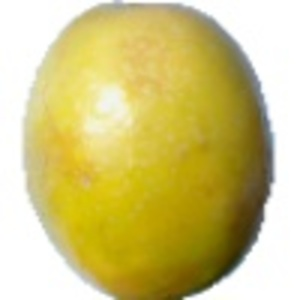maracujá: (20, 1, 278, 300)
